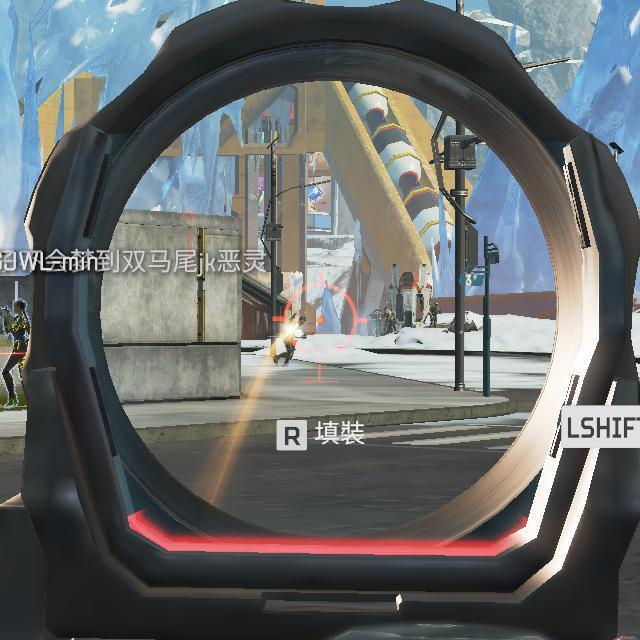avatar: (0, 296, 34, 408)
